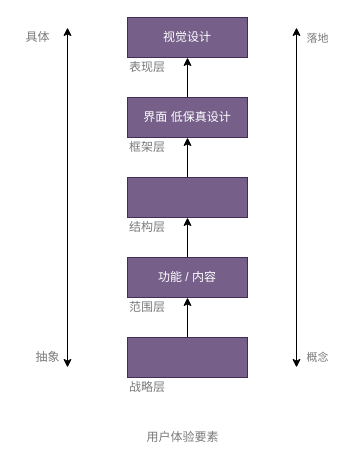
Image size: 345x465. Some labels were removed from this diagram. Each missing label, with the centre of its shape:
信息架构: [187,197]
用户需求 / 产品目标: [187,357]
